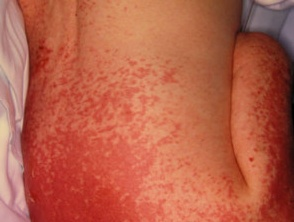SJS-TEN: (14, 0, 294, 222)
